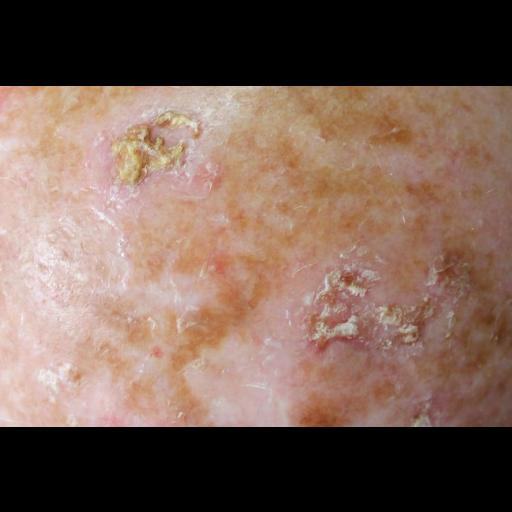Skin_Lesion: (296, 252, 386, 360), (90, 288, 170, 348), (184, 273, 248, 335), (208, 234, 274, 280), (115, 118, 155, 182), (452, 141, 492, 169), (469, 256, 501, 290), (112, 85, 188, 99), (160, 140, 188, 168), (157, 103, 183, 133), (92, 134, 114, 150), (190, 120, 206, 140), (151, 342, 167, 358)
